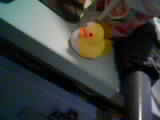duck: (68, 18, 101, 62)
